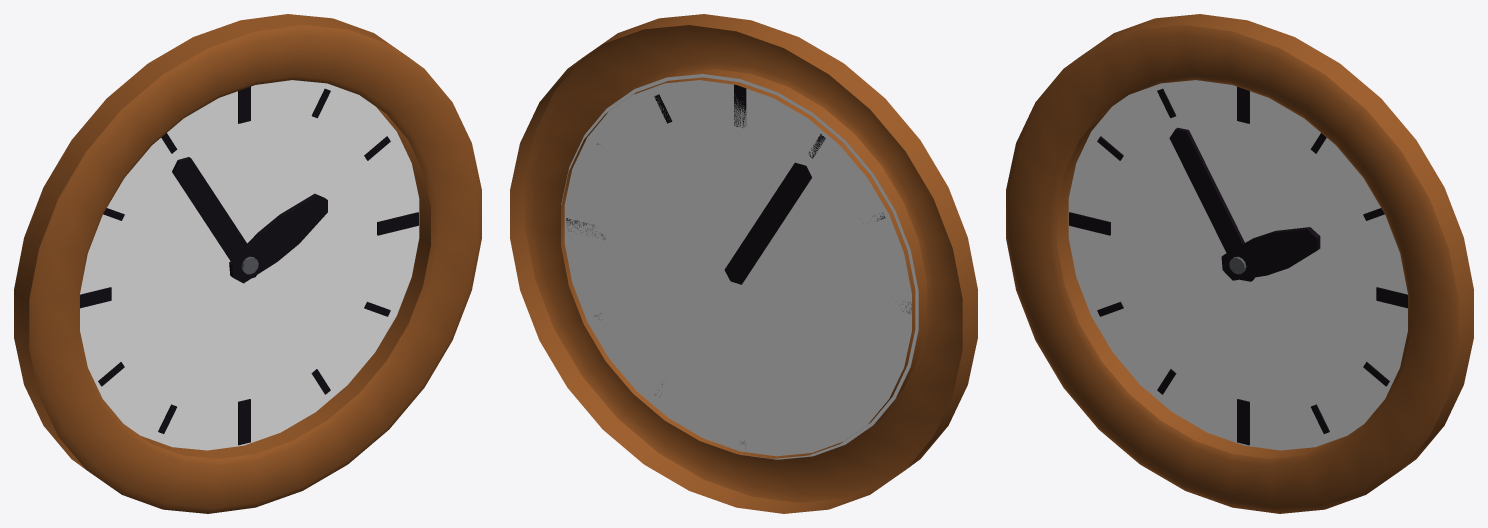
The model's file is Clock.fbx.
The picture shows the model from 3 angles, left to right: view 1: azimuth 30°, elevation 25°; view 2: azimuth 150°, elevation 25°; view 3: azimuth 330°, elevation 25°; orthographic projection.
Visible parts, largest first — view 1: Clock; view 2: Clock; view 3: Clock.
Boxes of the visible parts, x1,y1,x2,y2 form: Clock: (14,14,481,513); Clock: (510,14,977,513); Clock: (1006,14,1473,513).
Bounding box in the file's own units: 0.5845 × 0.5877 × 0.0406.
